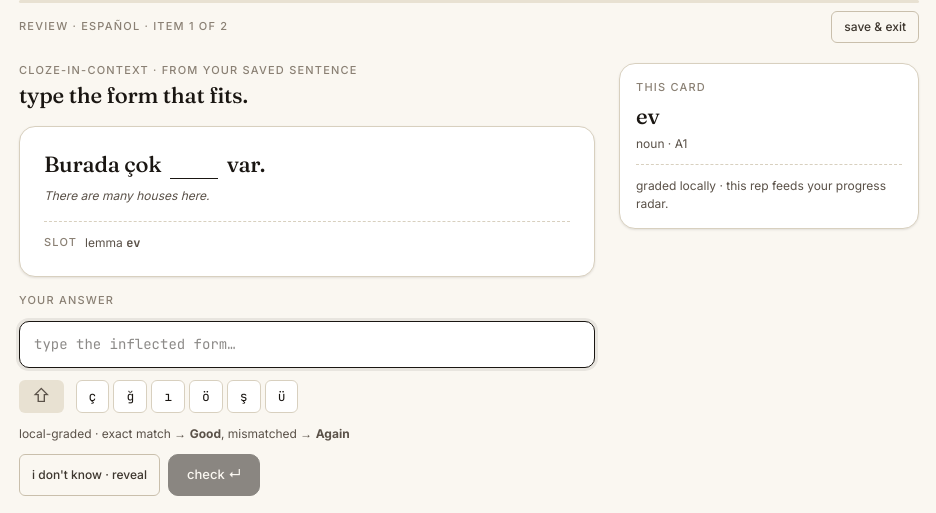
Scenario: ReviewSessionPage flow › submits the cloze item with the occurrence surface and shows feedback
Type "evler" into the field with placeholder "type the inflected form…" at (307, 344), box 19,321 -> 595,368
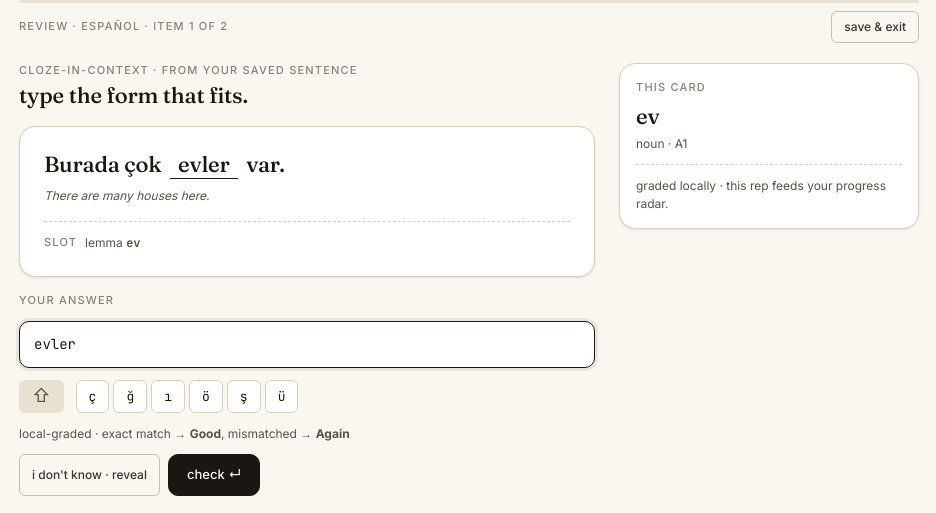
Click the button "check ↵" at (214, 475), box 168,454 -> 260,496
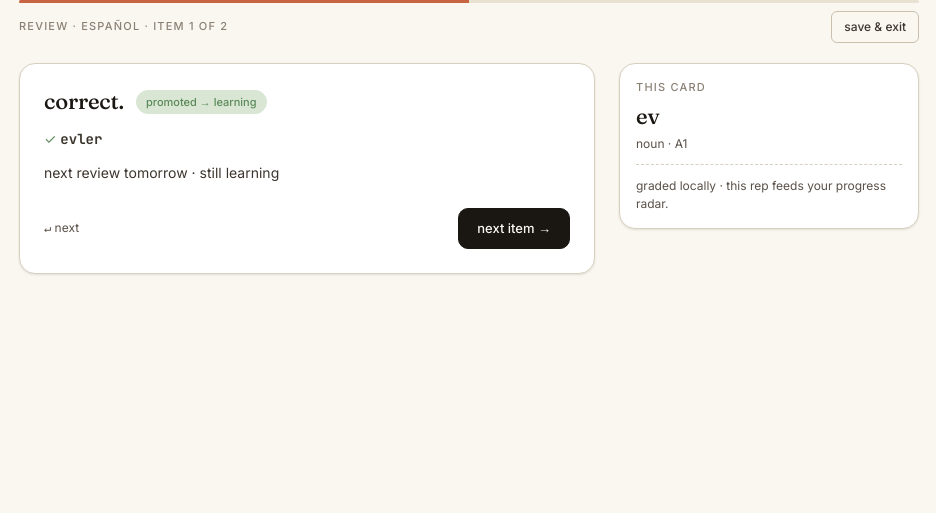
Result: the heading "correct." is shown at 44,88 -> 124,116
